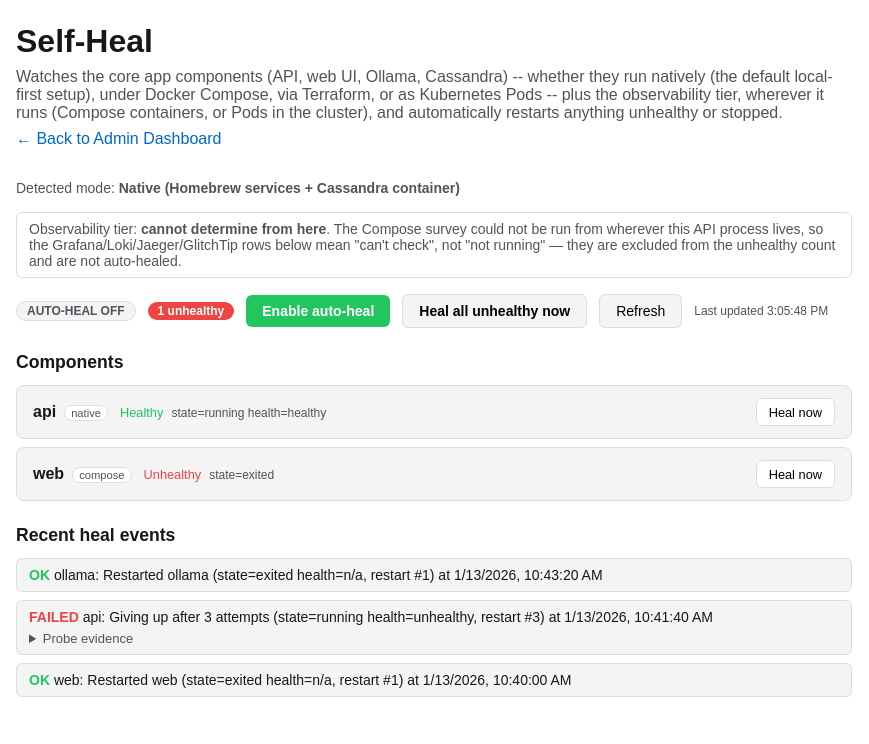
it: SelfHealPage › surfaces probe evidence on heal events that carry it, and only on those
This screenshot has width=869, height=744.
expect the list item "Giving up after 3 attempts" is shown: met, box [109,609,269,625]
Click the heading "Probe evidence" at (88, 639), box [43,631,133,646]
(page scrolled)
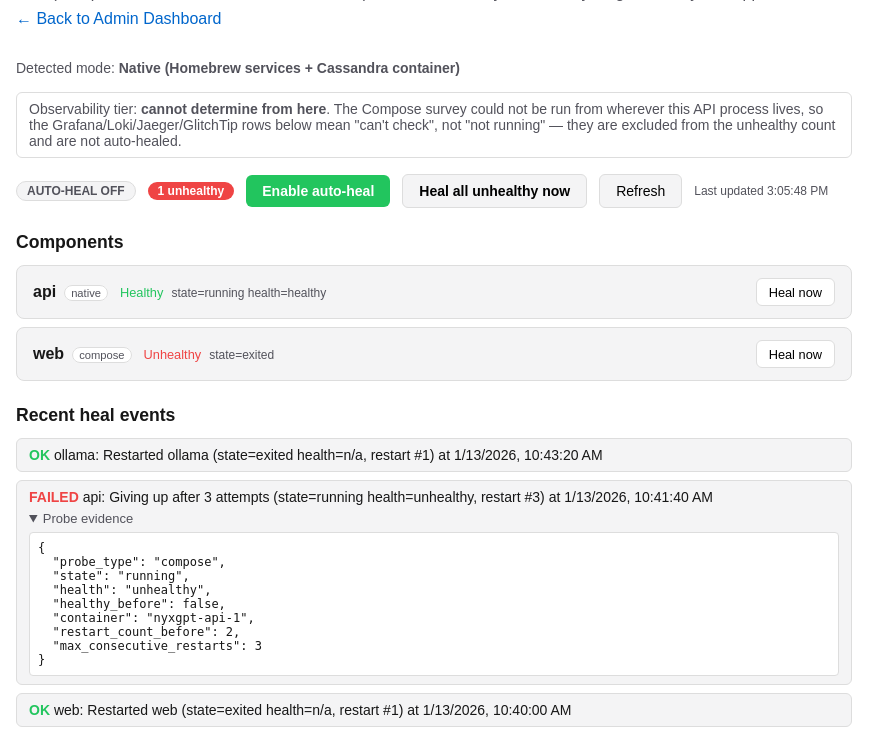
expect the text "\"max_consecutive_restarts\": 3" is shown: met, box [38,541,262,667]
